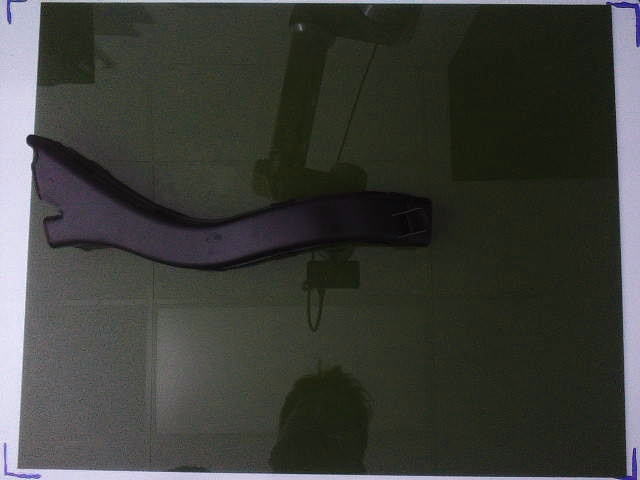887_B-Top: (24, 134, 434, 271)
